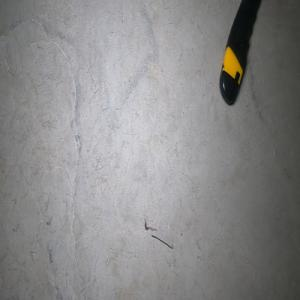Cutter: (218, 0, 260, 105)
